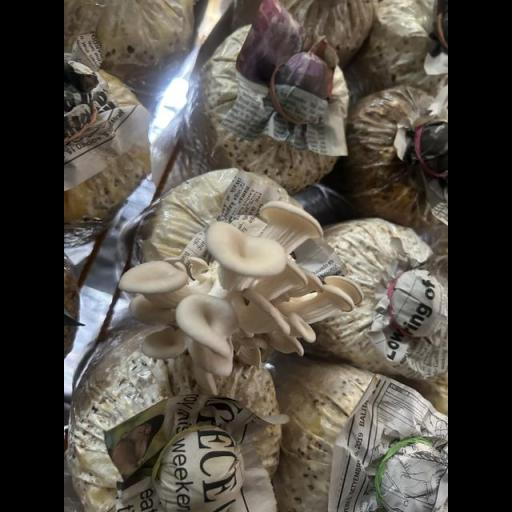White Oyster Mushroom: (107, 189, 385, 390)
